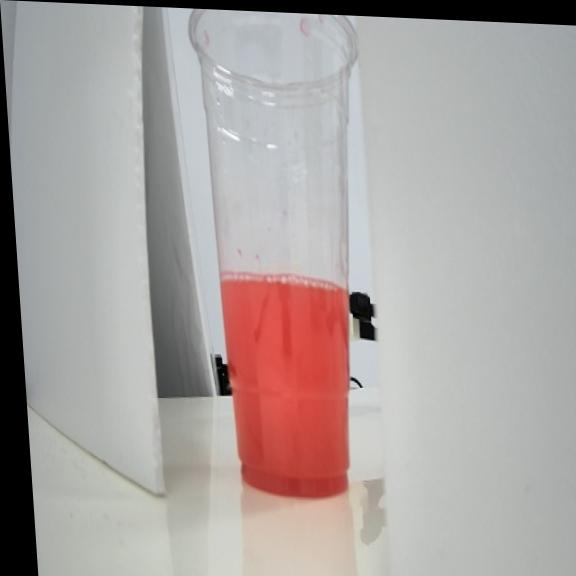Plastik: (189, 9, 357, 496)
